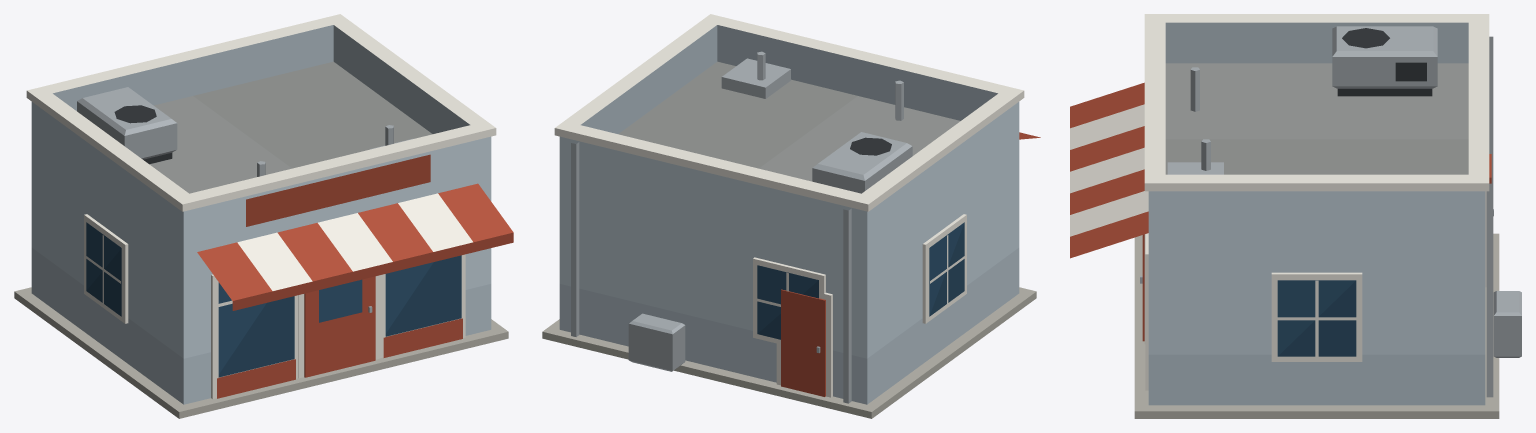
File: store_7x6.glb
The picture shows the model from 3 angles, left to right: view 1: azimuth 30°, elevation 25°; view 2: azimuth 150°, elevation 25°; view 3: azimuth 270°, elevation 25°; orthographic projection. The views are drawn at different scales.
Parts seen in each view (by area): view 1: block; view 2: block; view 3: block.
Part boxes in pixels (x1,y1,x2,y2): block: (14,14,513,418); block: (542,14,1040,418); block: (1070,14,1521,418).
Size of the model in its own units: 7.5 by 4.64 by 8.05.
